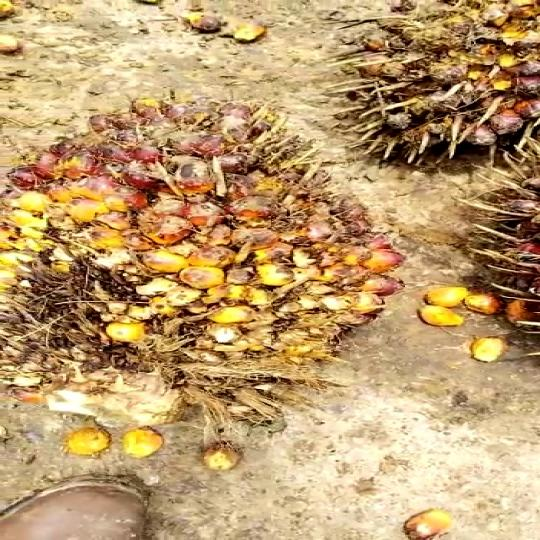masak: (0, 86, 398, 424)
